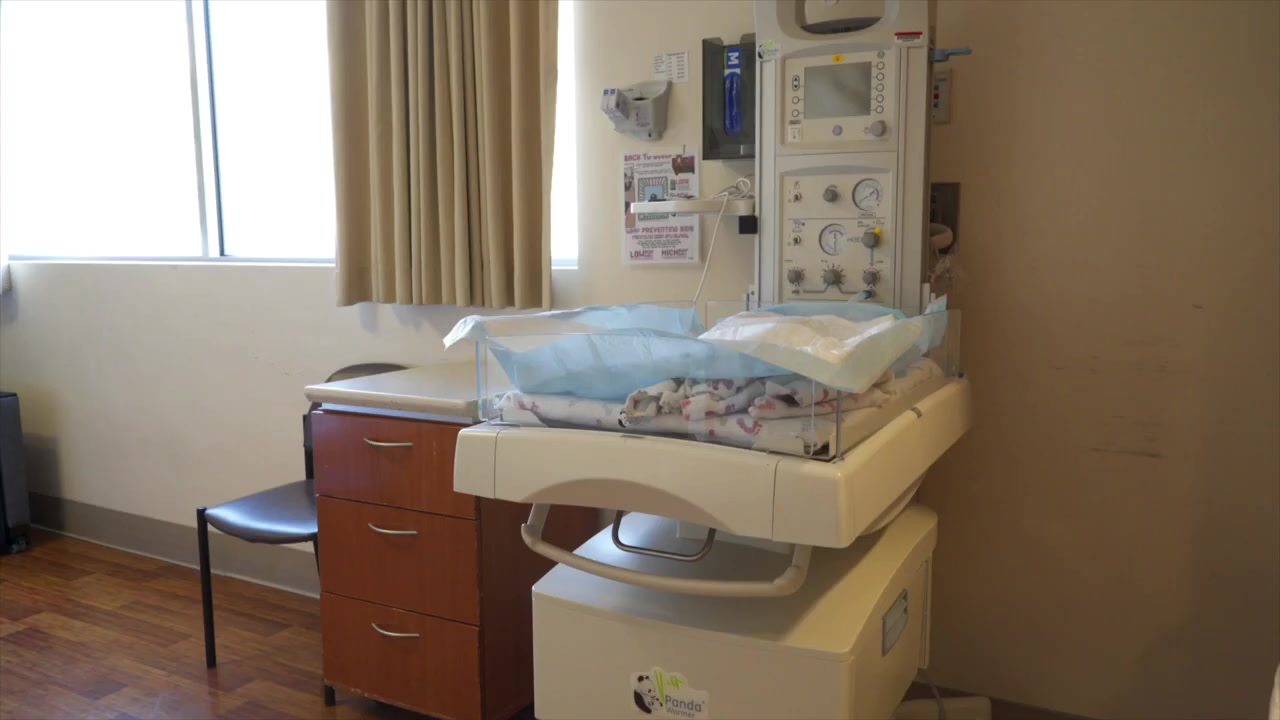chair: (194, 362, 412, 720)
drawer: (306, 368, 534, 720)
handle: (359, 516, 428, 542), (356, 429, 417, 456), (367, 618, 423, 641)
panda_baby_warmer: (459, 1, 995, 720)
